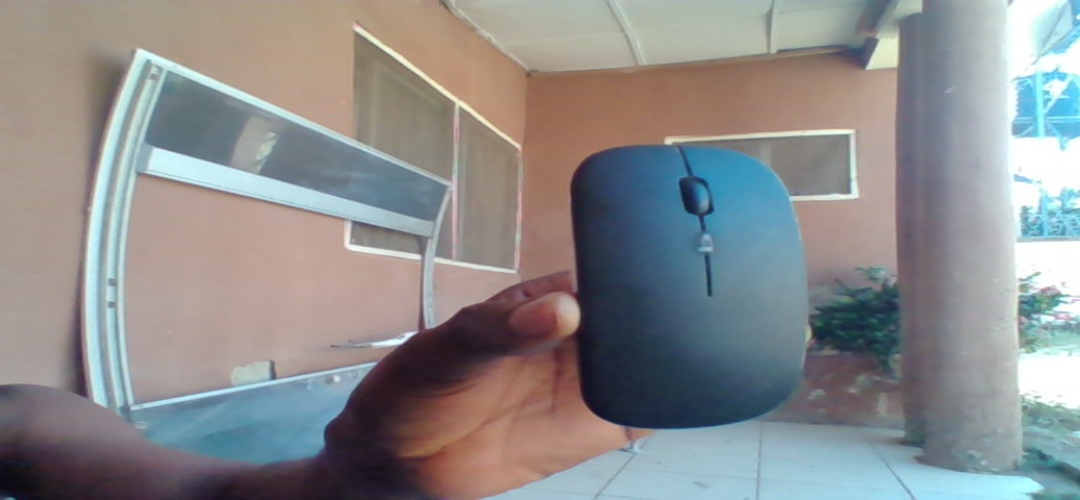wireless_mouse: (563, 139, 811, 432)
